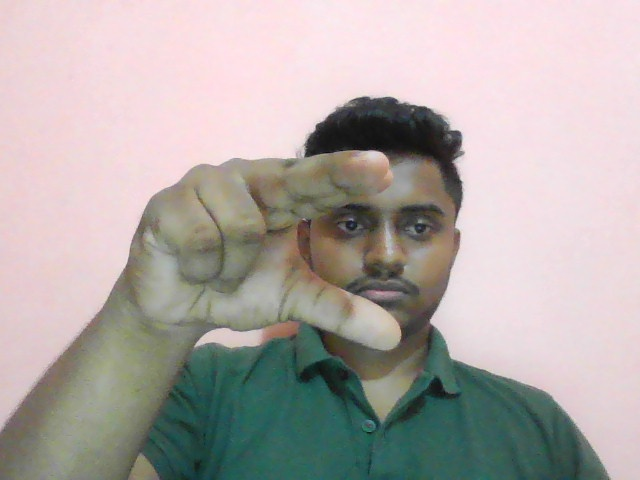No: (129, 150, 404, 356)
